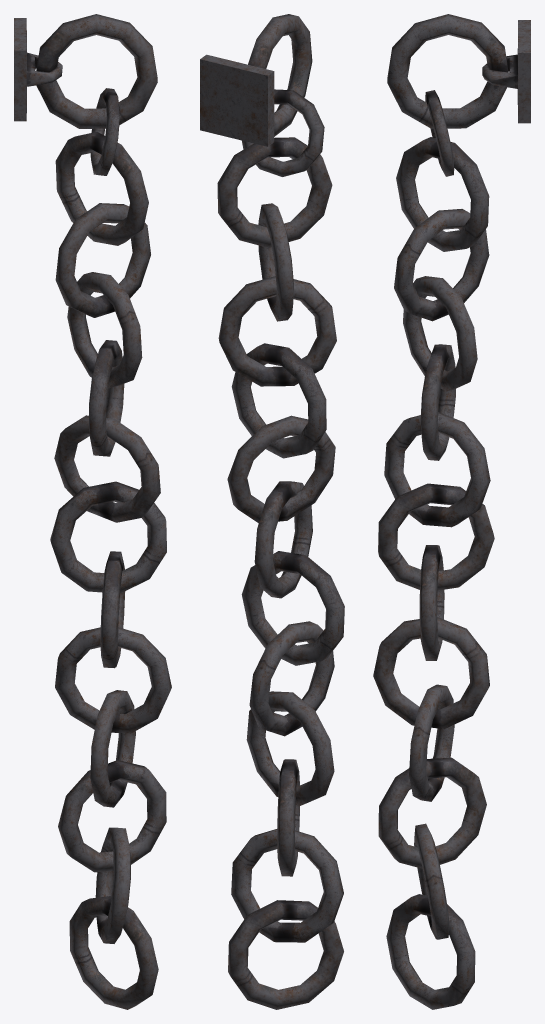
Rendered from Castle Wall Ring Chain 04.fbx.
3 views of the same model, side by side, from view 1: azimuth 90°, elevation 25°; view 2: azimuth 150°, elevation 25°; view 3: azimuth 270°, elevation 25° (orthographic).
Visible parts, largest first — view 1: Cube; view 2: Cube; view 3: Cube.
Part boxes in pixels (x1,y1,x2,y2): Cube: [14, 14, 171, 1009]; Cube: [200, 14, 344, 1009]; Cube: [373, 14, 530, 1009].
Bounding box in the file's own units: 20.35 × 172 × 24.91.
